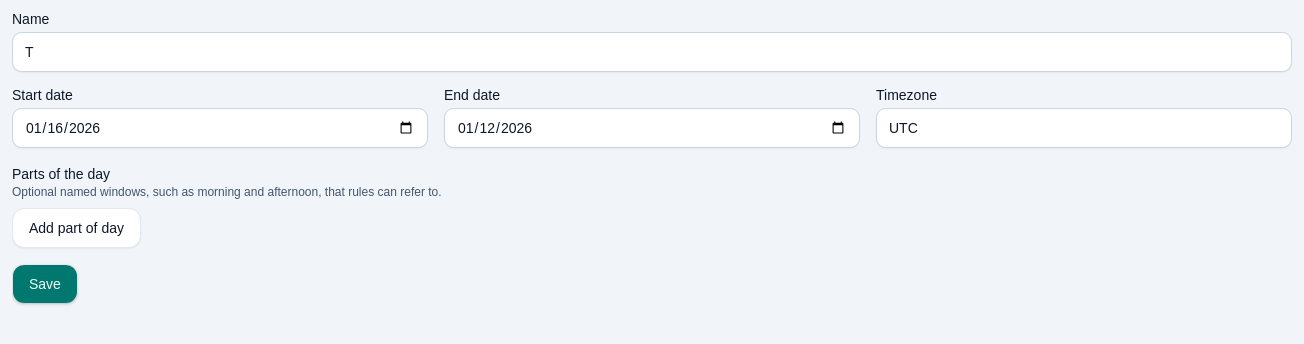
Test: ScheduleForm › rejects an end date before the start
Click the button "Save" at (45, 284), box [12,264,78,304]
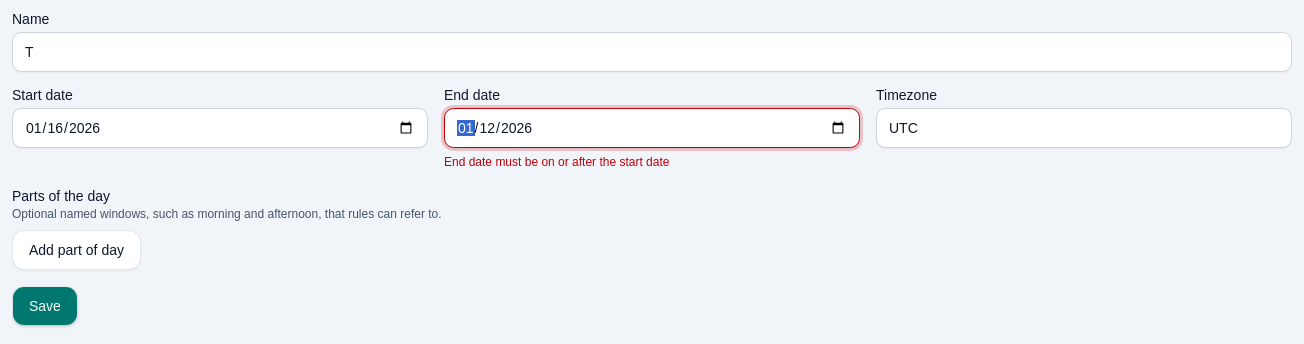
Result: the text "End date must be on or after the start date" is shown at [444,155,670,169]
